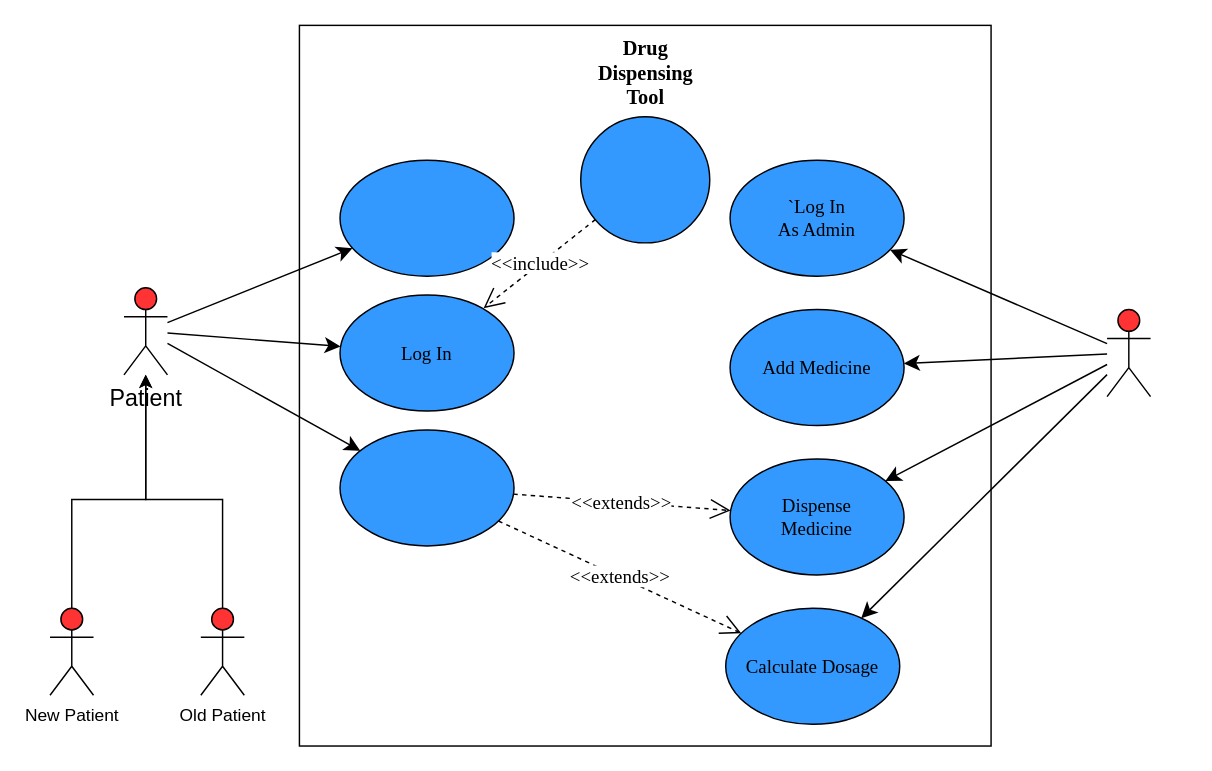
The diagram is 1212 pixels wide and 771 high, and some of its shapes have lost their labels. Each missing label, with the centre of its shape:
Forgot Password Service: the point at 644,179
Pharmacist: the point at 1128,352
Register: the point at 426,217
View Prescription: the point at 426,487
